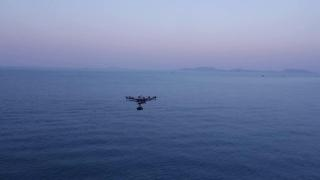UAV: (124, 94, 158, 111)
